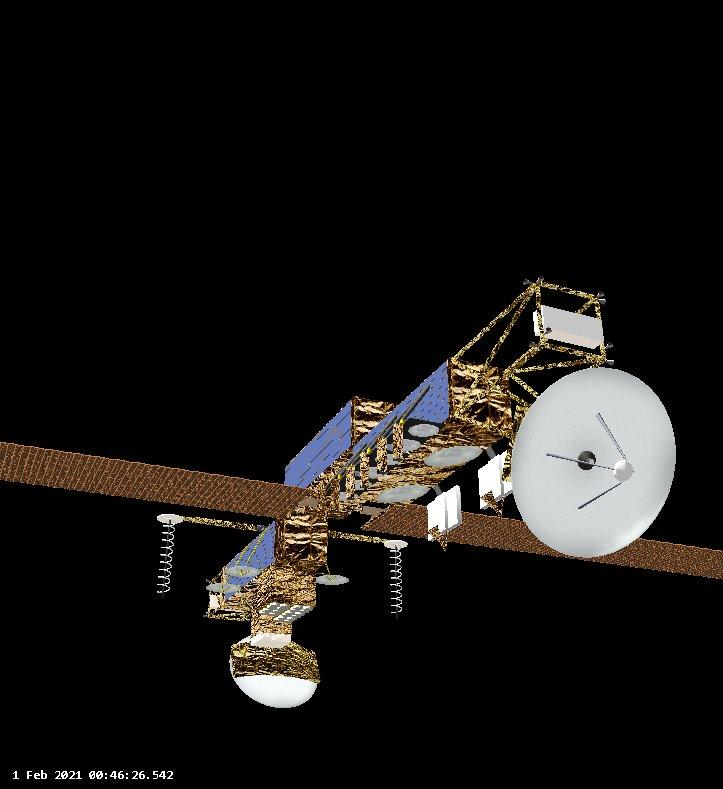antenna: (509, 364, 680, 561), (224, 629, 325, 711), (152, 510, 185, 600), (379, 535, 410, 622), (421, 439, 483, 476), (371, 479, 434, 506), (221, 562, 262, 581), (202, 578, 245, 596), (406, 420, 444, 440), (309, 570, 353, 587), (373, 452, 408, 467)
body: (203, 277, 612, 627)
solar: (360, 499, 723, 582), (0, 433, 316, 522), (395, 437, 424, 454)
